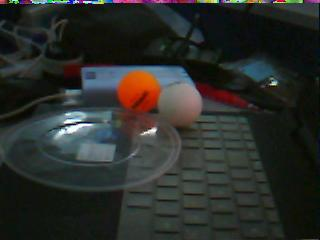oball: (117, 71, 157, 111)
